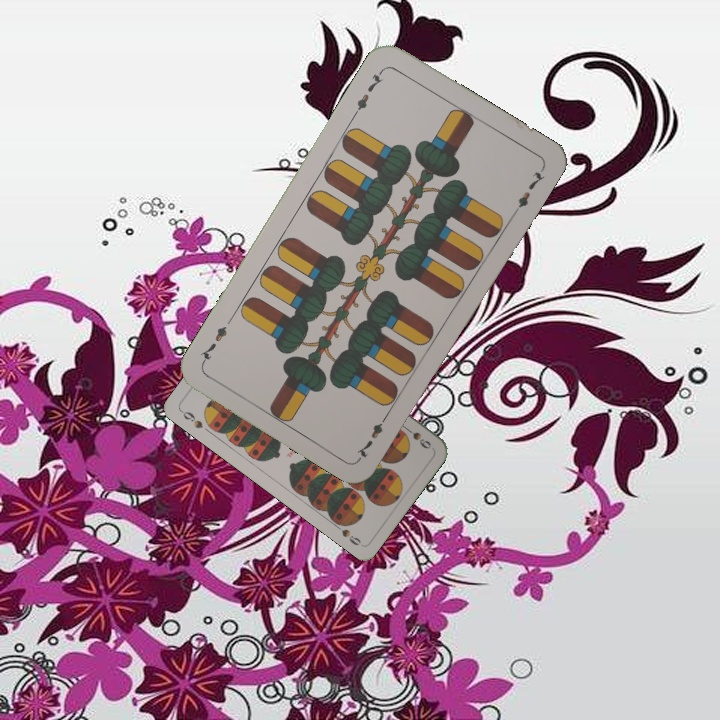E7: (352, 408, 392, 462), (349, 65, 387, 118)
S9: (400, 422, 434, 452), (176, 406, 205, 431)
